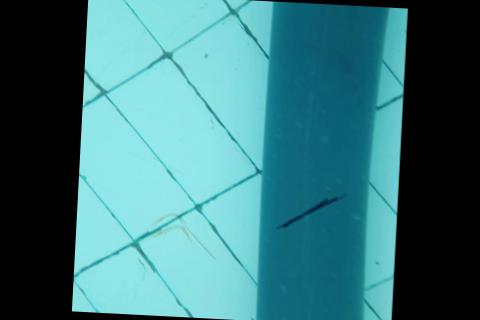keretakan: (276, 191, 348, 232)
